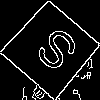S: (26, 24, 82, 81)
